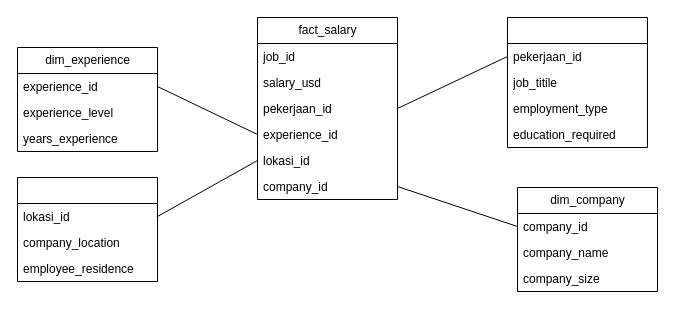
This 675x312 diagram has some shape labels left out. The box of each missing label's shape, as (x1, y1, x2, y2) in pixels:
dim_lokasi: (16, 176, 158, 282)
dim_pekerjaan: (506, 16, 648, 148)
